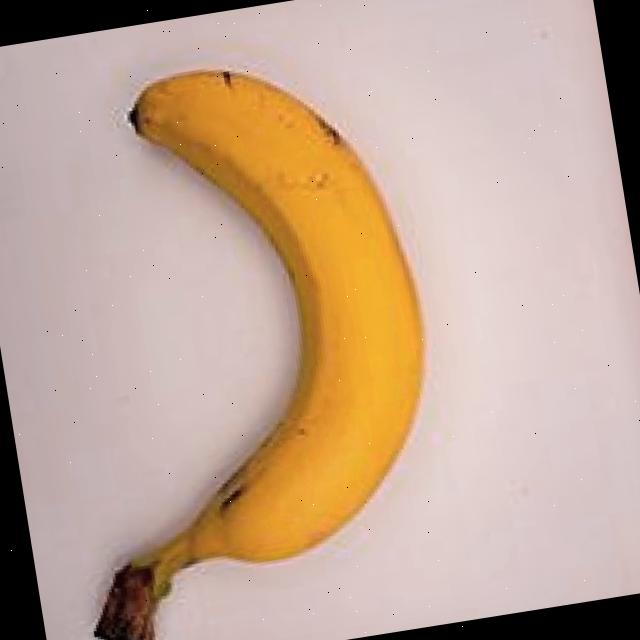Ripe: (4, 19, 503, 640)
